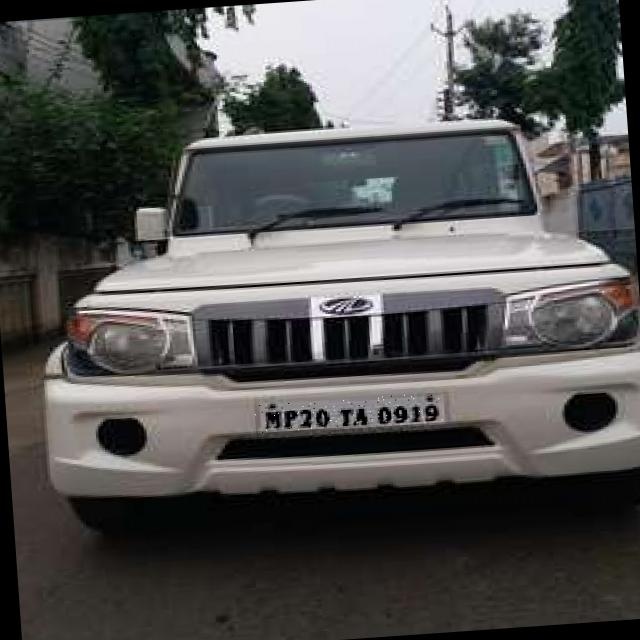Plate: (255, 393, 443, 434)
